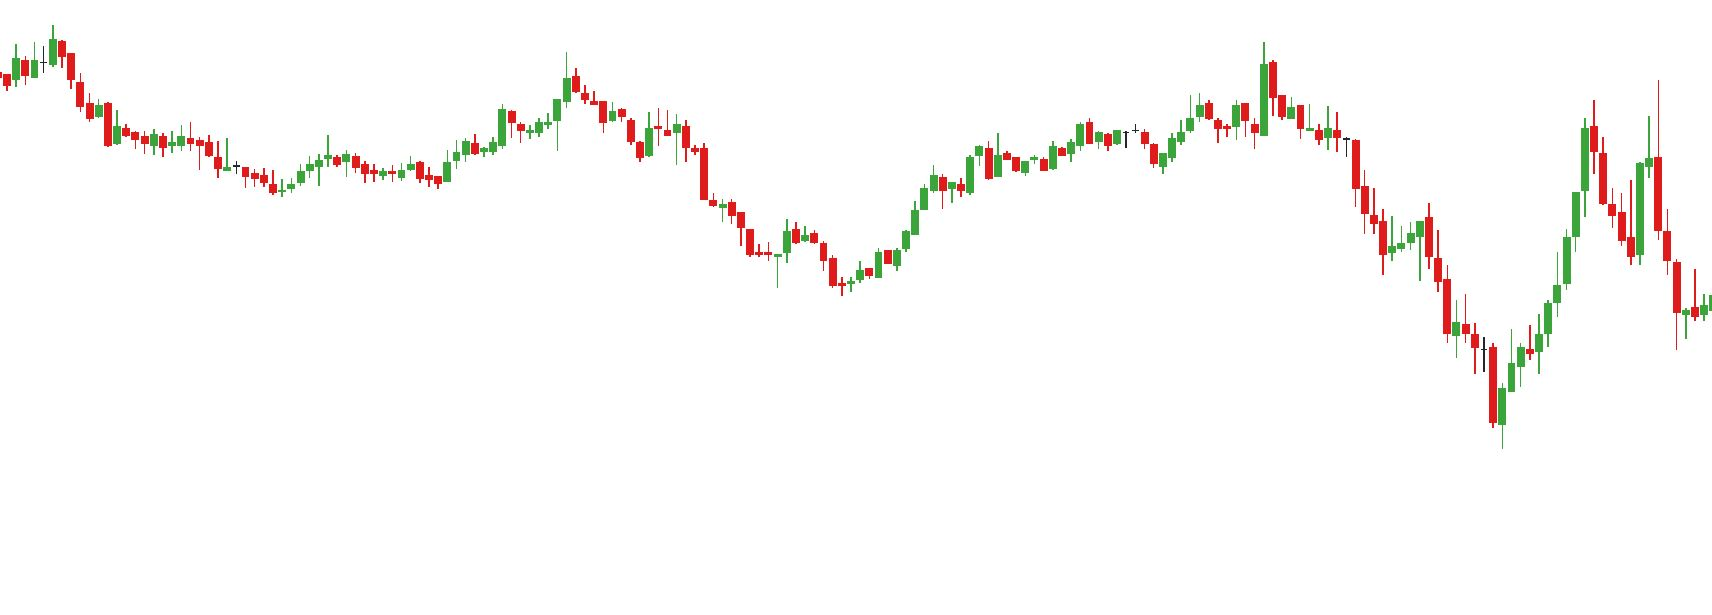buy: (771, 247, 856, 297)
sell: (1576, 81, 1664, 209), (1184, 40, 1277, 126)
